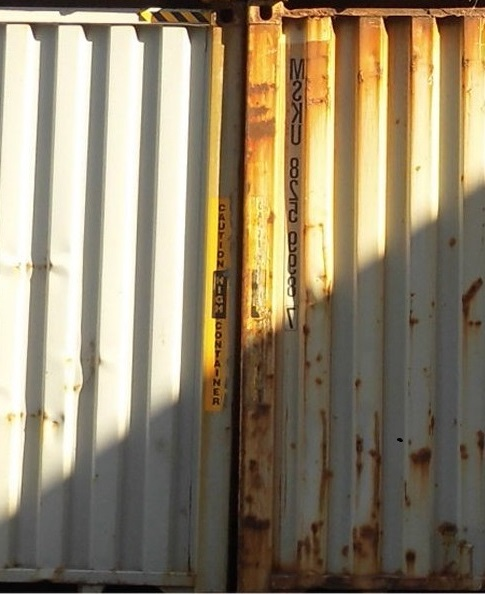container_no_door: (3, 12, 241, 590), (247, 3, 484, 581)
